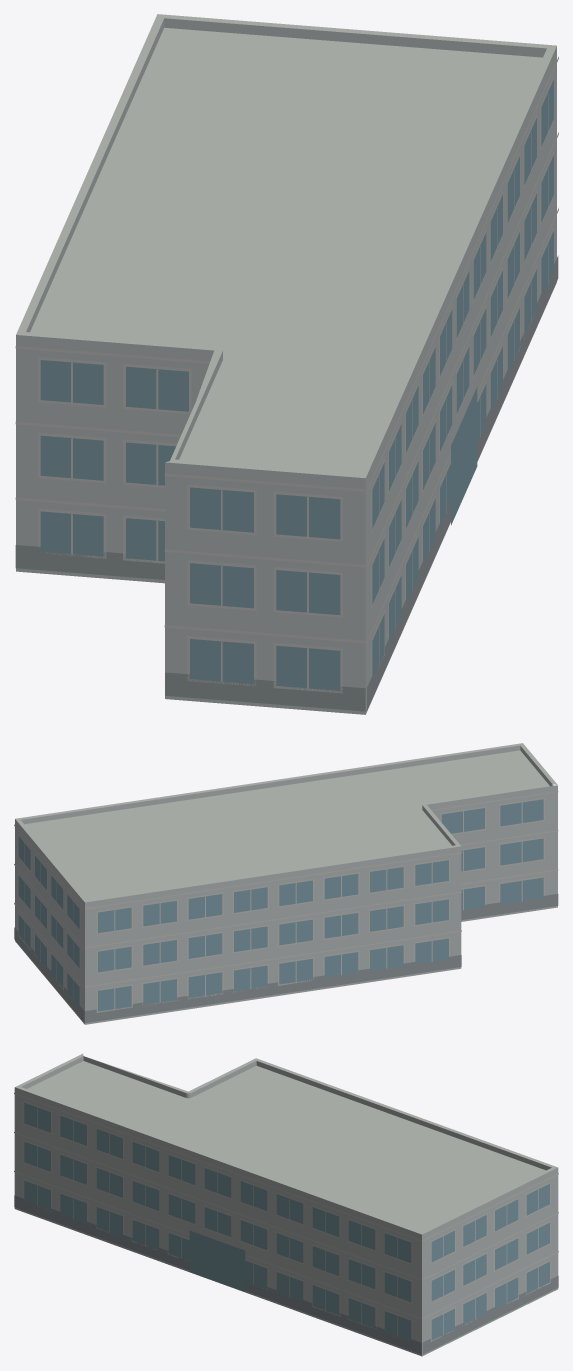
File: public-461094fc-f02f-4250-a229-c66ac301a294.glb
3 renders of one model, top to bottom at view 1: azimuth 30°, elevation 25°; view 2: azimuth 150°, elevation 25°; view 3: azimuth 270°, elevation 25°, orthographic. The views are drawn at different scales.
Parts seen in each view (by area): view 1: public-461094fc-f02f-4250-a229-c66ac301a294; view 2: public-461094fc-f02f-4250-a229-c66ac301a294; view 3: public-461094fc-f02f-4250-a229-c66ac301a294.
Boxes of the visible parts, x1,y1,x2,y2 form: public-461094fc-f02f-4250-a229-c66ac301a294: (15,14,558,714); public-461094fc-f02f-4250-a229-c66ac301a294: (14,743,558,1024); public-461094fc-f02f-4250-a229-c66ac301a294: (14,1053,558,1356).
Bounding box in the file's own units: 29.28 × 9.15 × 37.09.
